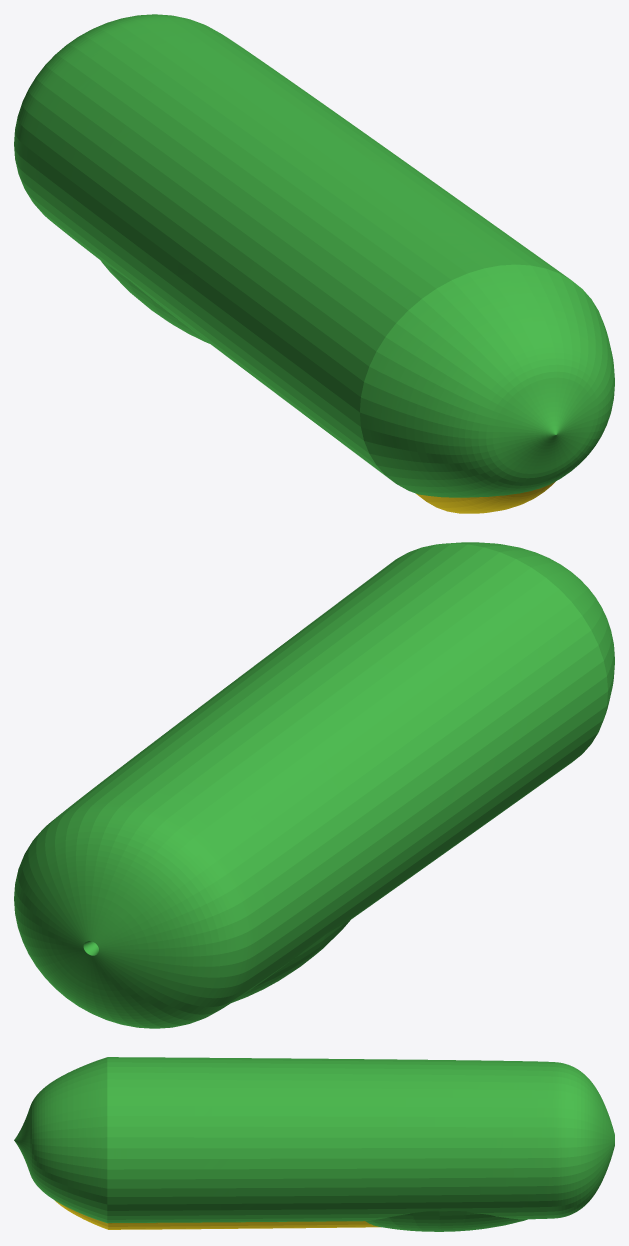
The model's file is tinker.obj.
3 renders of one model, top to bottom at view 1: azimuth 30°, elevation 25°; view 2: azimuth 150°, elevation 25°; view 3: azimuth 270°, elevation 25°, orthographic. The views are drawn at different scales.
Visible parts, largest first — view 1: obj_0, obj_1, obj_2; view 2: obj_0, obj_2; view 3: obj_0, obj_2, obj_1.
Boxes of the visible parts, x1,y1,x2,y2 form: obj_0: (14,14,614,497); obj_1: (416,481,555,513); obj_2: (100,260,209,343); obj_0: (14,542,614,1028); obj_2: (232,919,350,1002); obj_0: (14,1057,614,1223); obj_2: (365,1210,527,1231); obj_1: (55,1201,380,1229).
Bounding box in the file's own units: 8 × 7.5 × 25.94.
